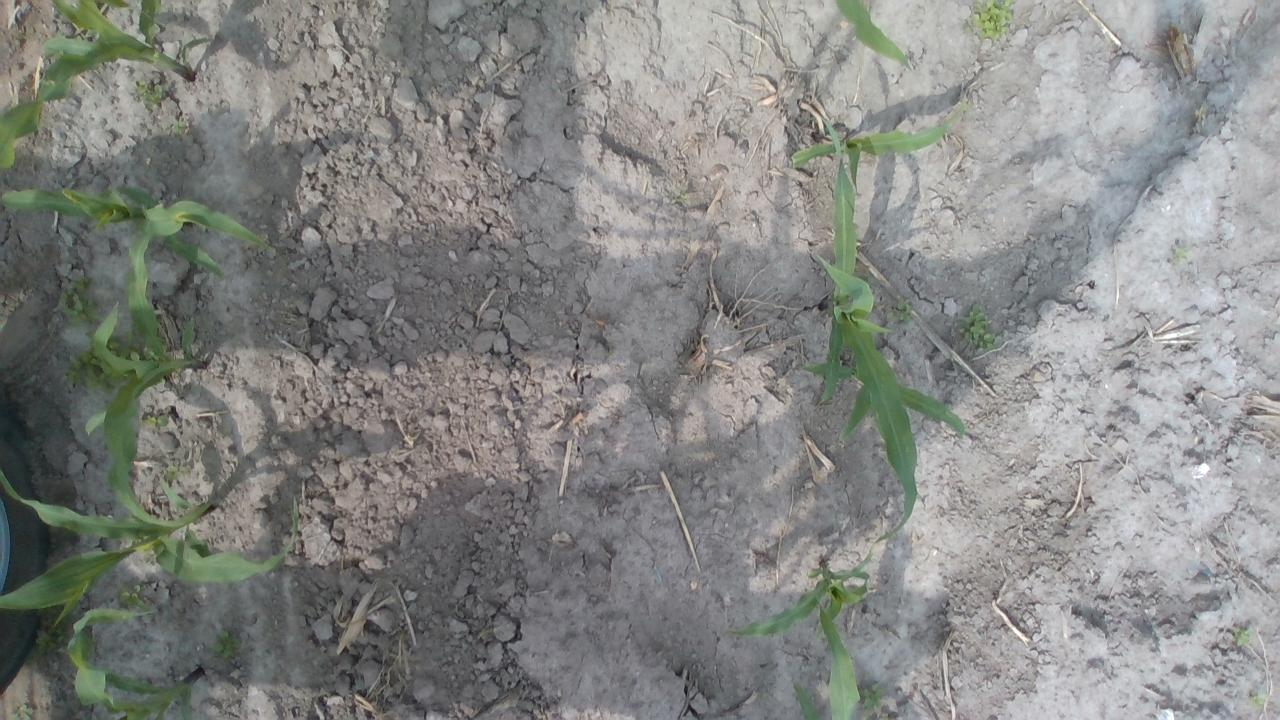Maize: (0, 451, 304, 626), (0, 0, 212, 171), (790, 96, 966, 300), (94, 231, 208, 524), (809, 251, 919, 542), (724, 551, 879, 720), (0, 186, 277, 277), (67, 608, 207, 720), (800, 356, 970, 439), (824, 0, 916, 74), (791, 681, 832, 720)
Weeds: (61, 348, 122, 396), (960, 0, 1015, 43), (61, 275, 103, 324), (959, 303, 999, 352), (107, 330, 150, 362), (855, 682, 885, 720), (134, 79, 164, 110), (116, 584, 150, 610), (211, 630, 242, 657), (885, 298, 912, 322), (138, 414, 170, 428), (9, 703, 33, 720), (1248, 692, 1267, 710), (164, 465, 186, 480), (1172, 244, 1188, 264), (1234, 627, 1250, 646), (670, 188, 690, 202), (172, 118, 184, 136), (604, 347, 614, 357)
